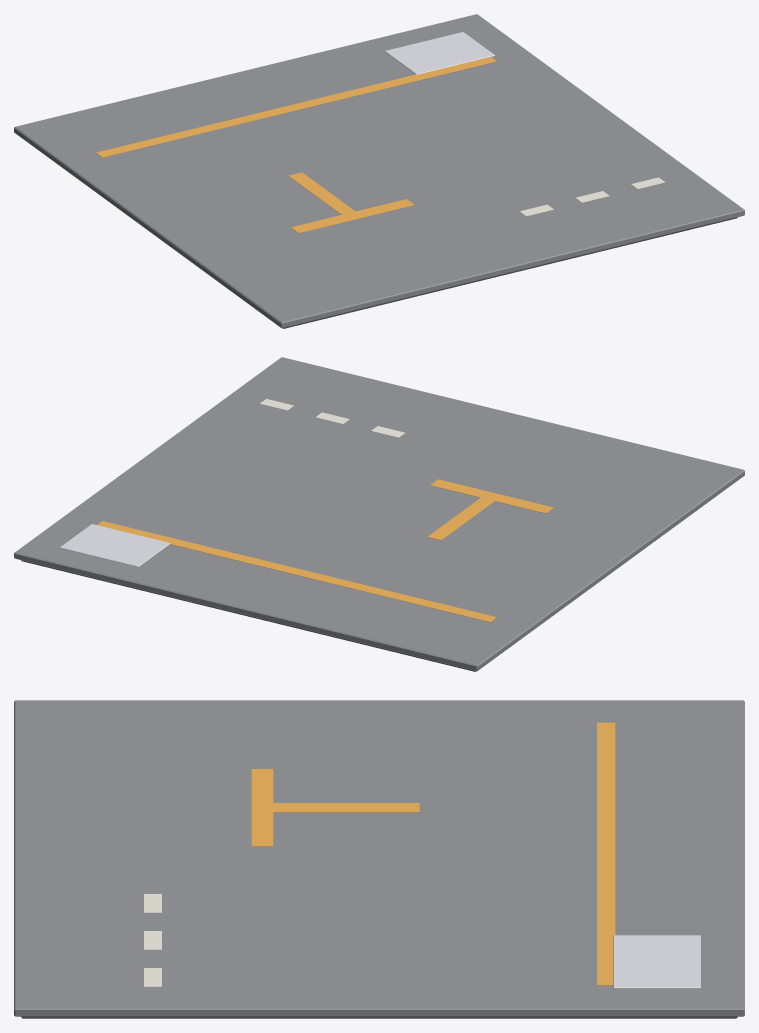
Rendered from 35483_Studio_Floor_Tile__Marked_Up__TV_Studio_and_Broadcast_Gallery_.glb.
The picture shows the model from 3 angles, top to bottom: view 1: azimuth 30°, elevation 25°; view 2: azimuth 150°, elevation 25°; view 3: azimuth 270°, elevation 25°; orthographic projection. The views are drawn at different scales.
Visible parts, largest first — view 1: studio-floor-tile-marked; view 2: studio-floor-tile-marked; view 3: studio-floor-tile-marked.
Boxes of the visible parts, x1=… form: studio-floor-tile-marked: x1=14, y1=14, x2=744, y2=328; studio-floor-tile-marked: x1=14, y1=357, x2=744, y2=671; studio-floor-tile-marked: x1=14, y1=700, x2=744, y2=1018.
Size of the model in its own units: 2 by 0.0441 by 2.
